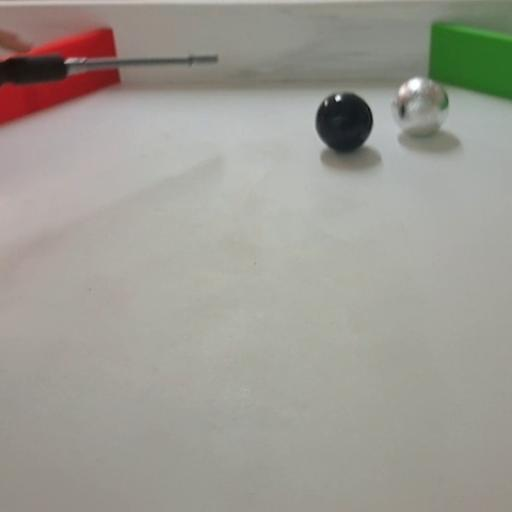alive: (390, 76, 450, 136)
dead: (314, 90, 374, 152)
